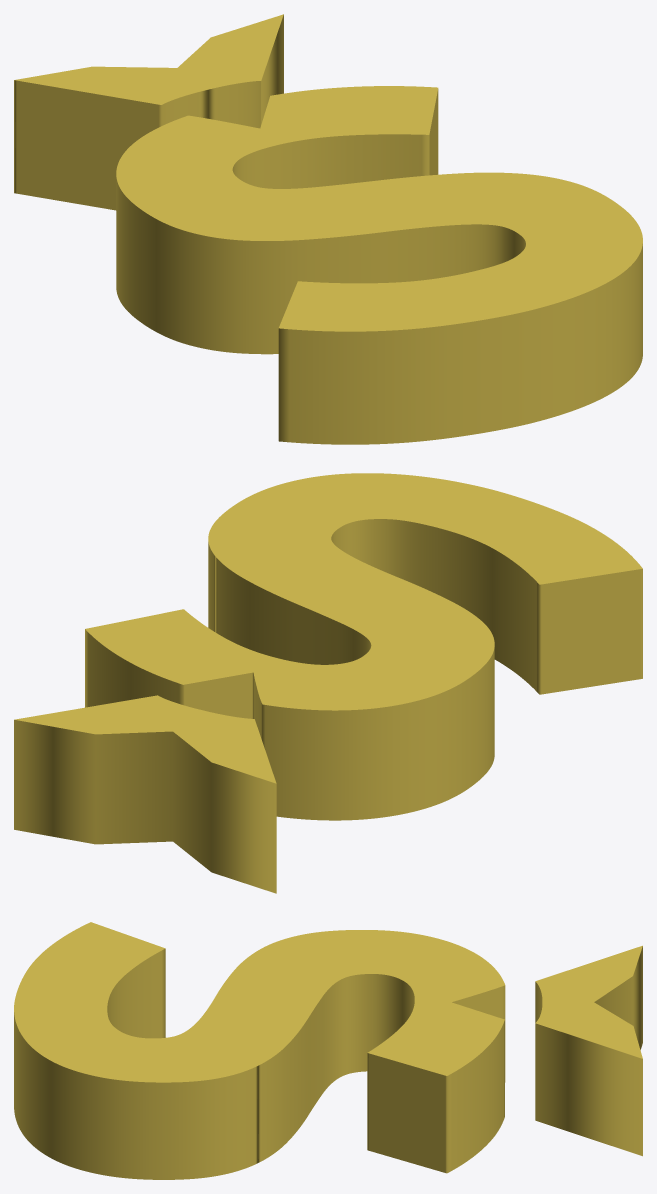
File: SekS.glb
3 renders of one model, top to bottom at view 1: azimuth 30°, elevation 25°; view 2: azimuth 150°, elevation 25°; view 3: azimuth 270°, elevation 25°, orthographic. The views are drawn at different scales.
Visible parts, largest first — view 1: Curve.001; view 2: Curve.001; view 3: Curve.001.
Boxes of the visible parts, <box> form: Curve.001: <box>14,14,642,444</box>; Curve.001: <box>14,473,642,893</box>; Curve.001: <box>14,922,642,1179</box>.
Size of the model in its own units: 4.81 by 1.36 by 7.97.
